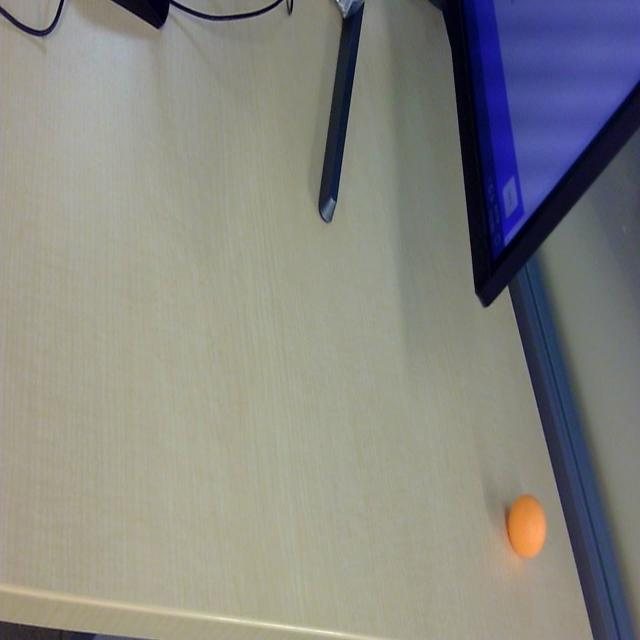ball: (507, 491, 548, 560)
